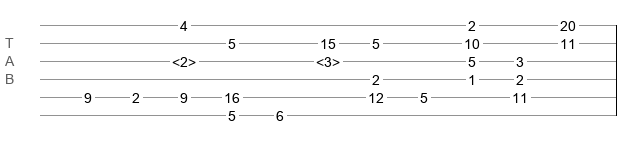1: (468, 72, 476, 82)
10: (464, 36, 480, 46)
11: (512, 90, 528, 100), (560, 36, 576, 46)
12: (368, 90, 384, 100)
15: (320, 36, 336, 46)
16: (224, 90, 240, 100)
2: (132, 90, 140, 100), (372, 72, 380, 82), (468, 18, 476, 28), (516, 72, 524, 82)
20: (560, 18, 576, 28)
3: (516, 54, 524, 64)
4: (180, 18, 188, 28)
5: (228, 36, 236, 46), (228, 108, 236, 118), (372, 36, 380, 46), (420, 90, 428, 100), (468, 54, 476, 64)
6: (276, 108, 284, 118)
9: (84, 90, 92, 100), (180, 90, 188, 100)
harmonic: (172, 54, 196, 64), (316, 54, 340, 64)
